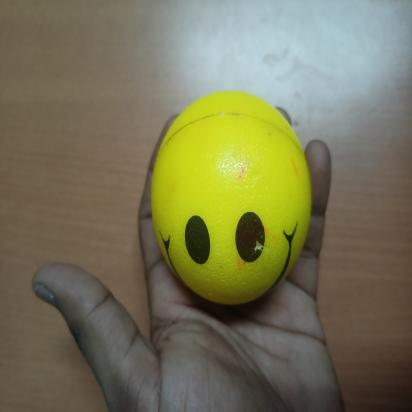Yellowball: (148, 88, 316, 306)
